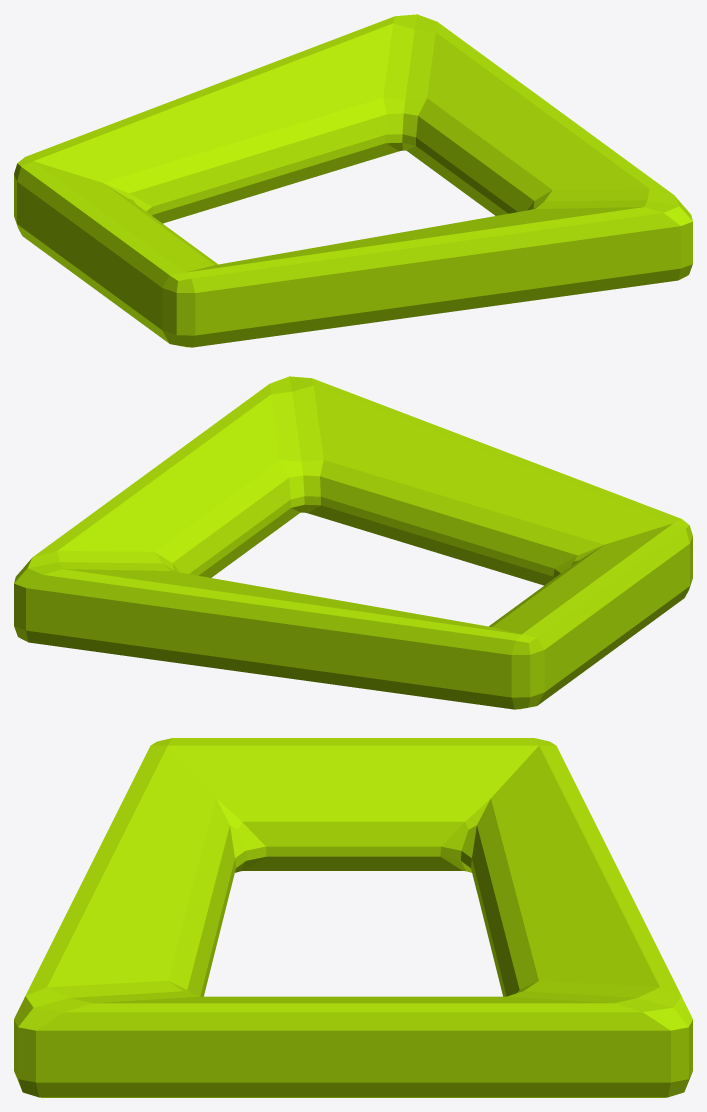
The model's file is MovingPart_pressed_2.fbx.
3 renders of one model, top to bottom at view 1: azimuth 30°, elevation 25°; view 2: azimuth 150°, elevation 25°; view 3: azimuth 270°, elevation 25°, orthographic. The views are drawn at different scales.
Parts seen in each view (by area): view 1: Cube; view 2: Cube; view 3: Cube.
Part boxes in pixels (x1,y1,x2,y2): Cube: [14, 14, 692, 347]; Cube: [14, 376, 692, 709]; Cube: [14, 738, 692, 1097].
Bounding box in the file's own units: 95.79 × 15.11 × 97.82.
